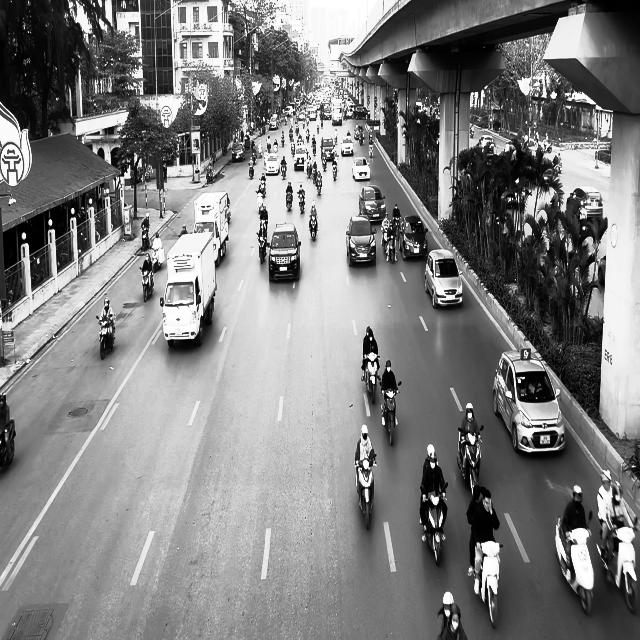car: (492, 348, 566, 454), (424, 249, 463, 309), (268, 222, 301, 282), (346, 215, 376, 266), (398, 215, 428, 260), (566, 186, 603, 222), (359, 185, 386, 222), (352, 157, 370, 180), (293, 144, 308, 170), (320, 136, 336, 160), (265, 152, 280, 175), (478, 135, 494, 155), (231, 142, 245, 162), (341, 135, 353, 155)
motorbike: (596, 514, 639, 613), (554, 511, 594, 616), (473, 541, 503, 628), (419, 482, 448, 566), (457, 424, 483, 497), (355, 453, 376, 530), (379, 379, 401, 446), (362, 352, 380, 404), (96, 315, 115, 360), (0, 418, 16, 468), (139, 266, 154, 302), (257, 231, 267, 264), (140, 224, 150, 250), (309, 213, 317, 241), (297, 190, 305, 213), (256, 189, 264, 212), (285, 190, 293, 211), (248, 162, 254, 179), (332, 161, 337, 180), (368, 144, 373, 158)
truck: (159, 232, 217, 347), (193, 191, 230, 267)
